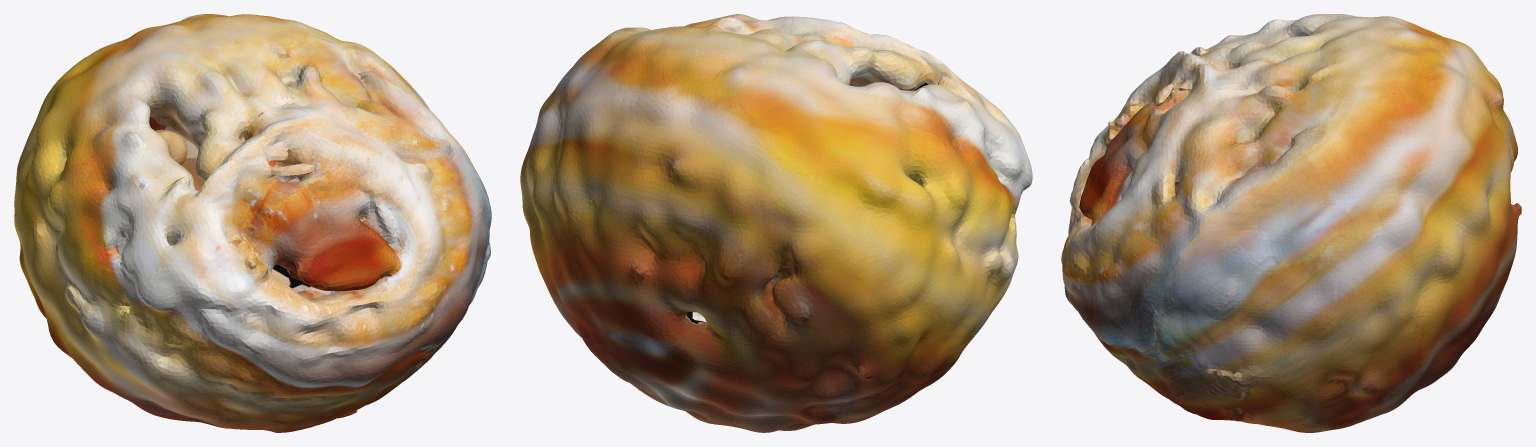
The model's file is One_piece_of_donut.glb.
The picture shows the model from 3 angles, left to right: view 1: azimuth 30°, elevation 25°; view 2: azimuth 150°, elevation 25°; view 3: azimuth 270°, elevation 25°; orthographic projection. The views are drawn at different scales.
Size of the model in its own units: 1.3 by 1.1 by 1.28.
Materials: 1 (1 with a texture image).
